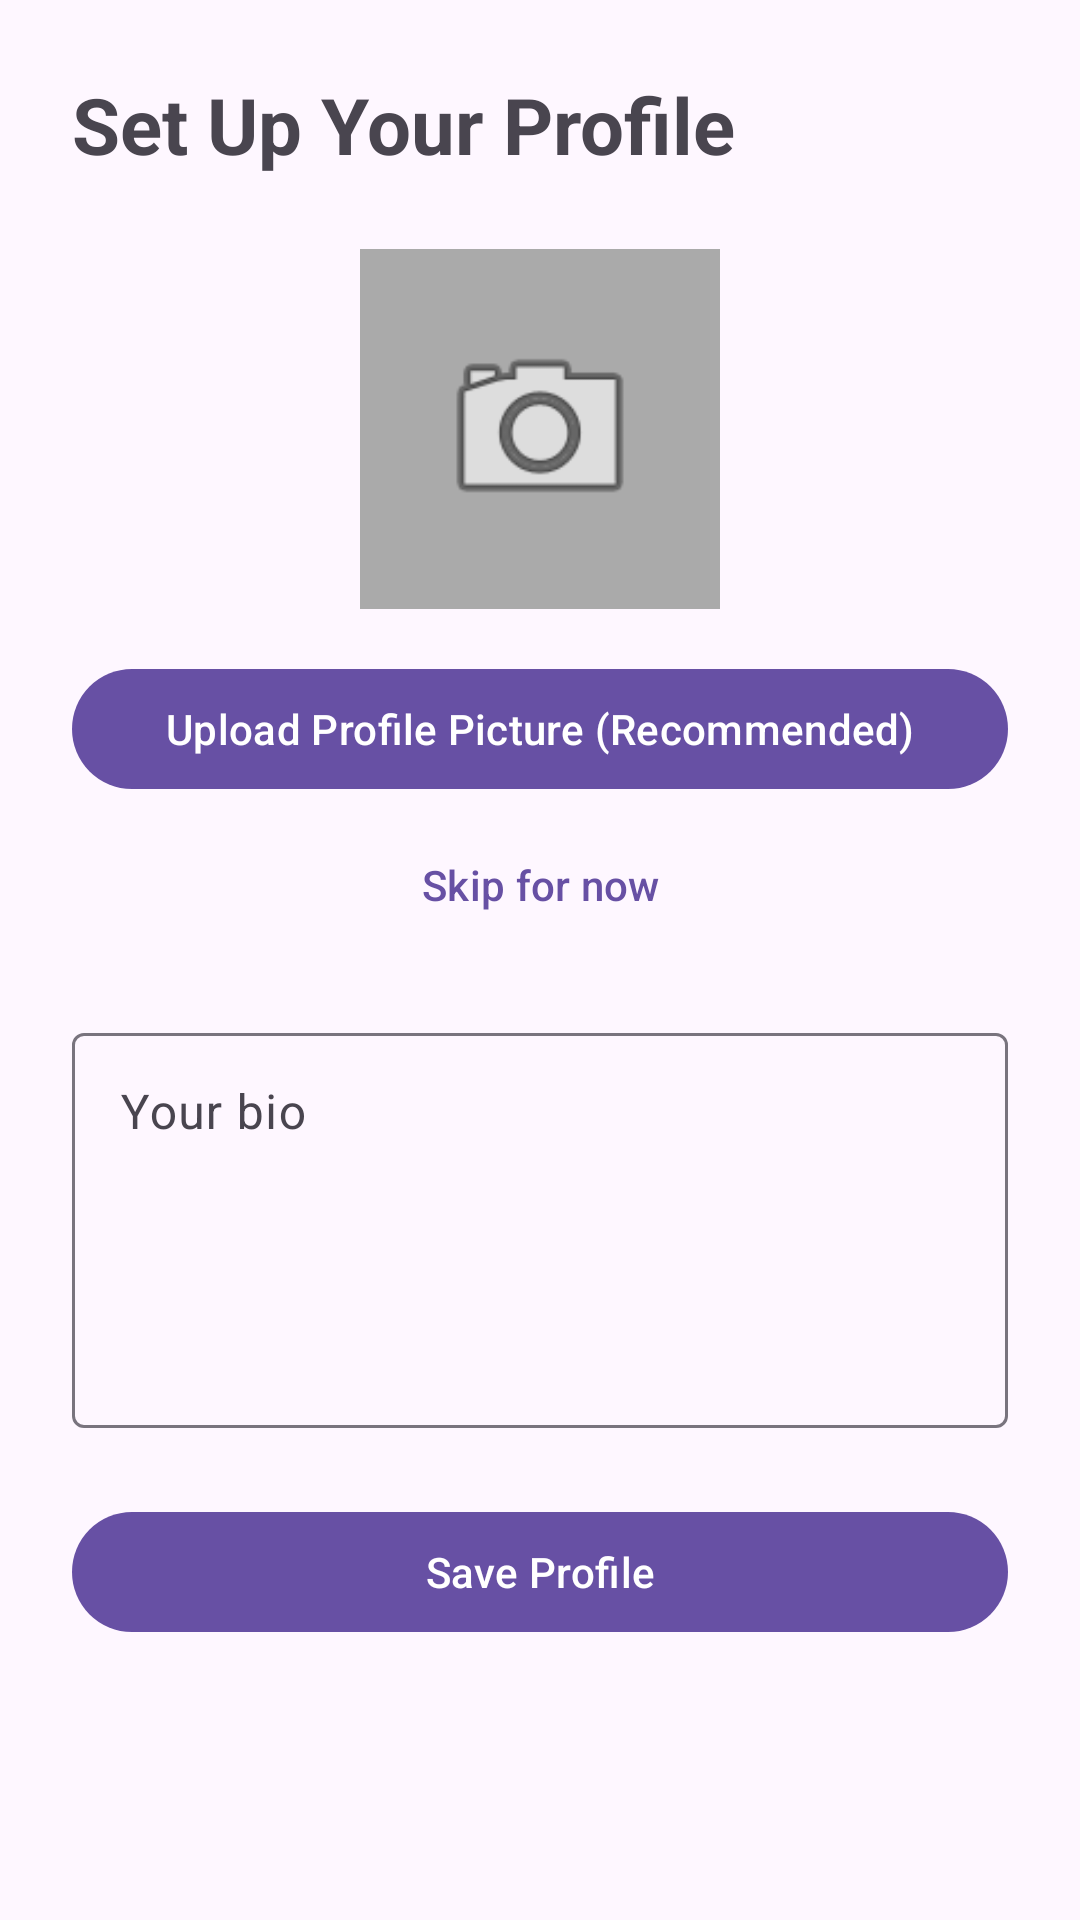

Icons on this 1080px×1920px Android screen, each with its box as (x1, y1, x2, y2):
Profile picture preview: (360, 249, 720, 609)
